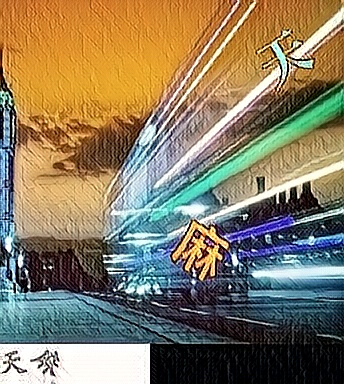C2E9: (167, 219, 232, 283)
CCEC: (254, 31, 319, 95)
